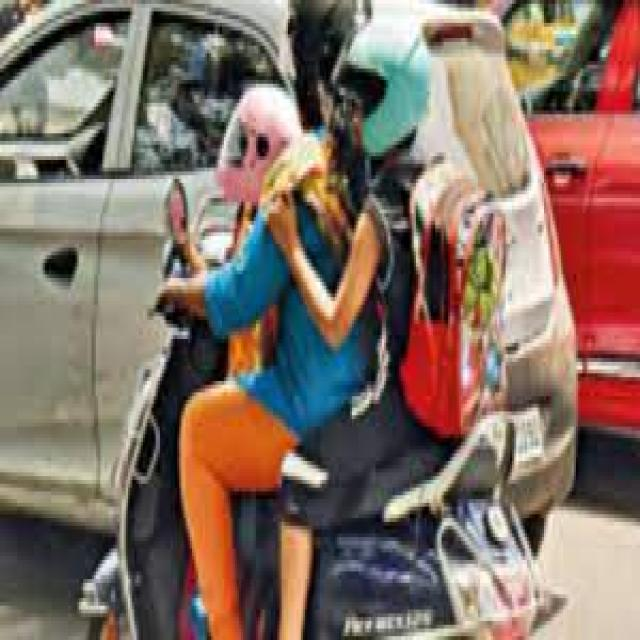Triple_riding: (178, 31, 524, 640)
with_helmet: (338, 14, 442, 184), (223, 65, 300, 234)
